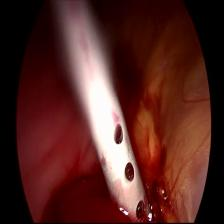Irrigator: (88, 80, 153, 223)
